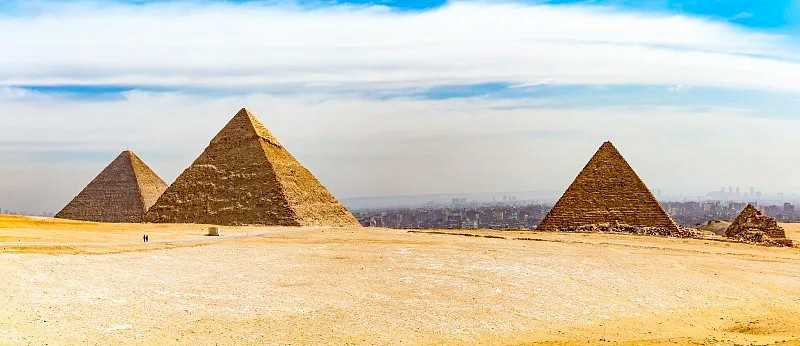Pyramid: (140, 109, 365, 228), (536, 143, 681, 237), (51, 151, 171, 223), (725, 205, 795, 248)
